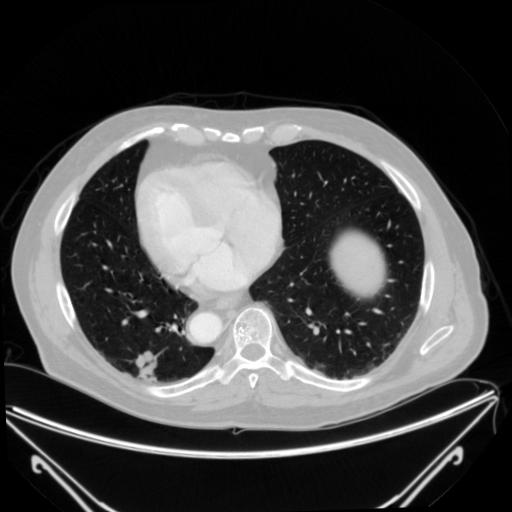nodule: (134, 353, 160, 379)
